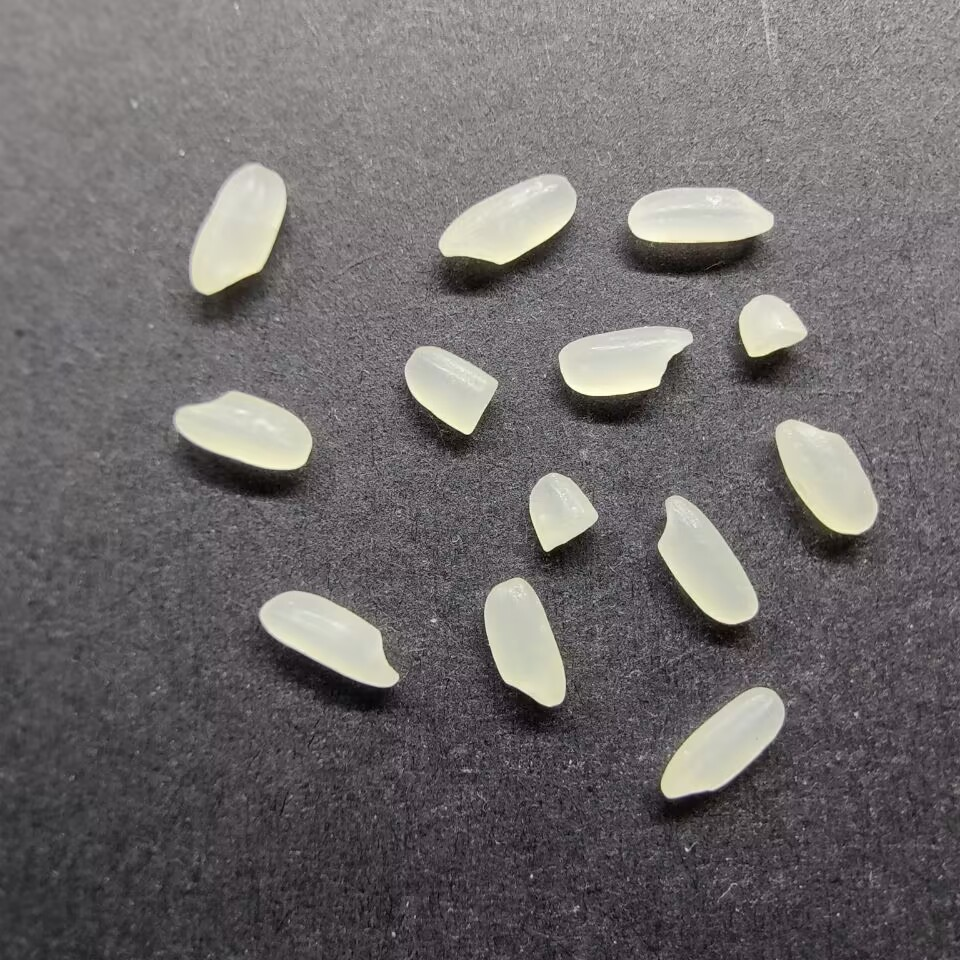broken: (402, 343, 500, 437), (527, 470, 599, 553), (737, 291, 808, 359)
rice: (658, 685, 788, 802), (256, 588, 400, 691), (655, 492, 760, 627), (188, 160, 287, 299), (437, 170, 578, 266), (773, 417, 881, 537), (171, 389, 313, 472), (482, 577, 567, 708), (556, 323, 696, 399), (625, 185, 777, 245)
